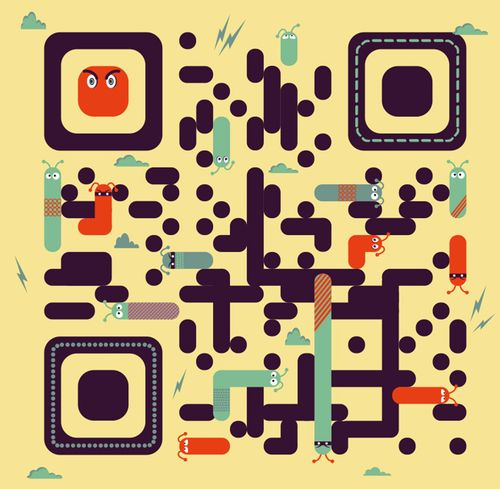QRCode: (40, 28, 474, 455)
